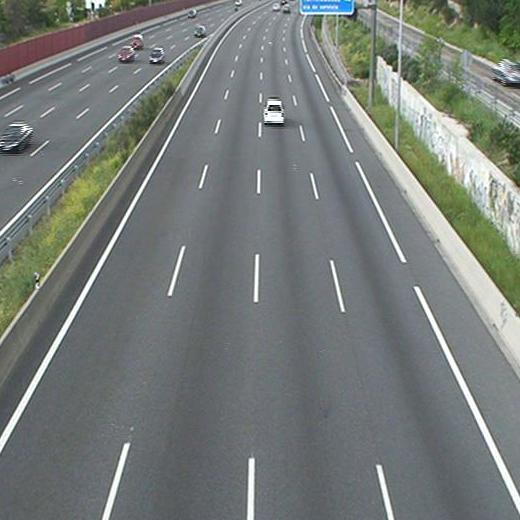car: (262, 100, 284, 123), (271, 3, 280, 11), (282, 4, 290, 12)
